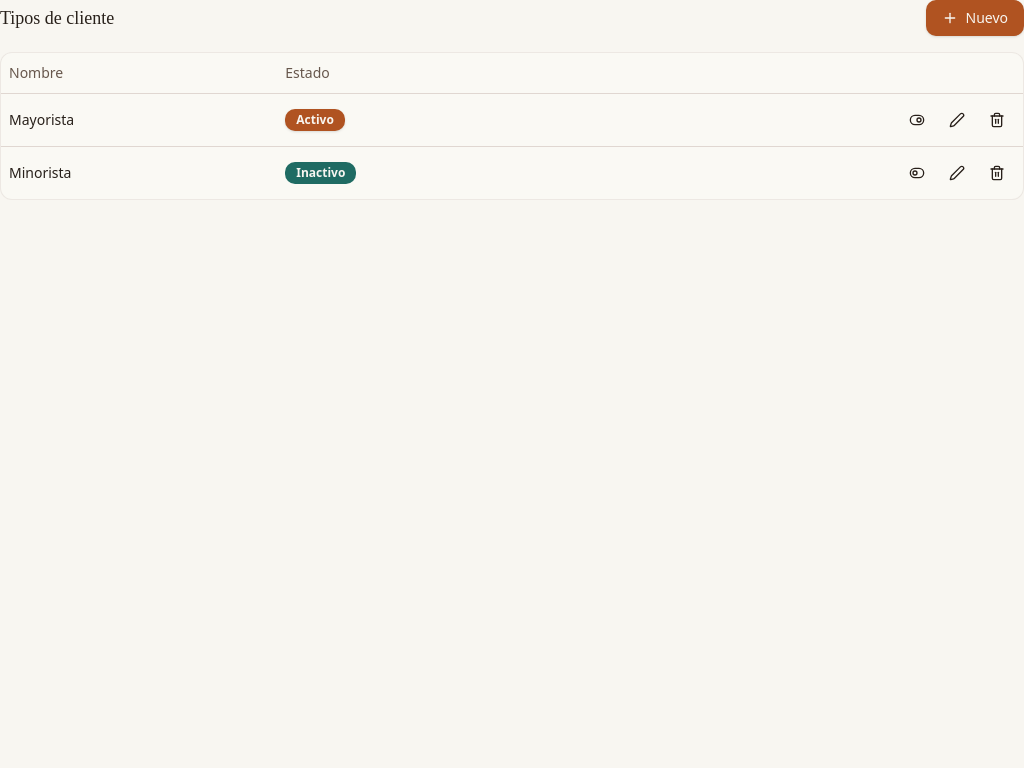
CatalogoManager › edita nombre y estado activo
Expected: the text "Mayorista" is shown, 1,93 -> 277,146
Click the button named "Editar Mayorista" at (957, 120), box 939,102 -> 975,138
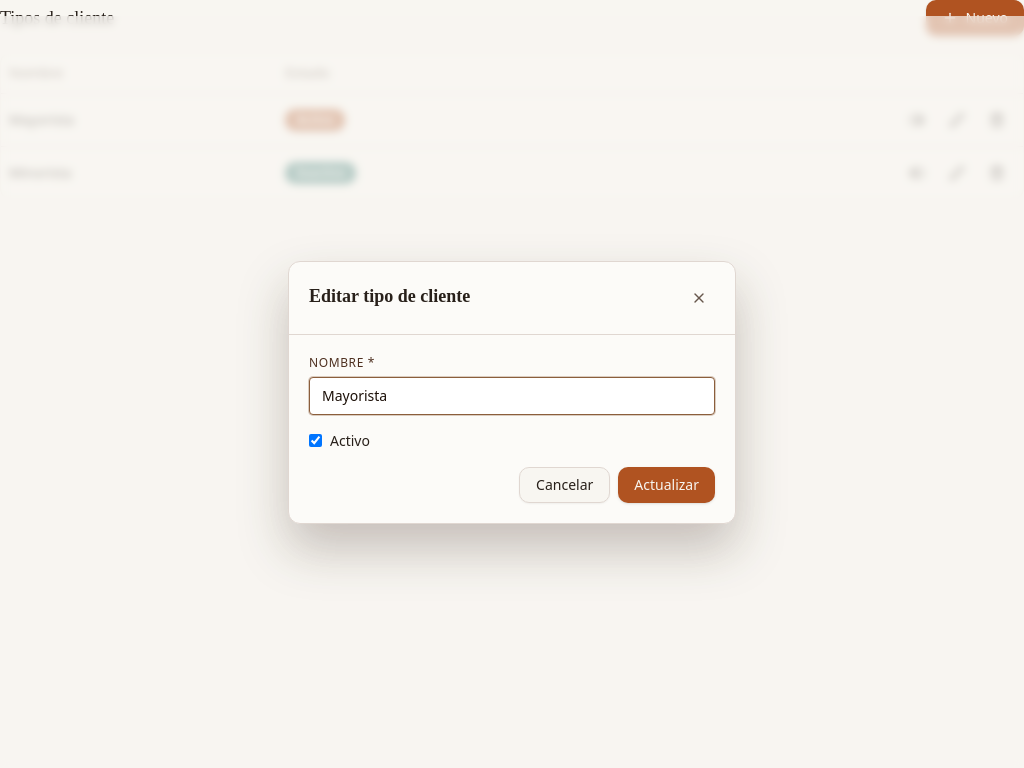
Replace the text in the field labelled "Nombre *" with "Mayorista VIP" at (512, 396), box 309,376 -> 715,414
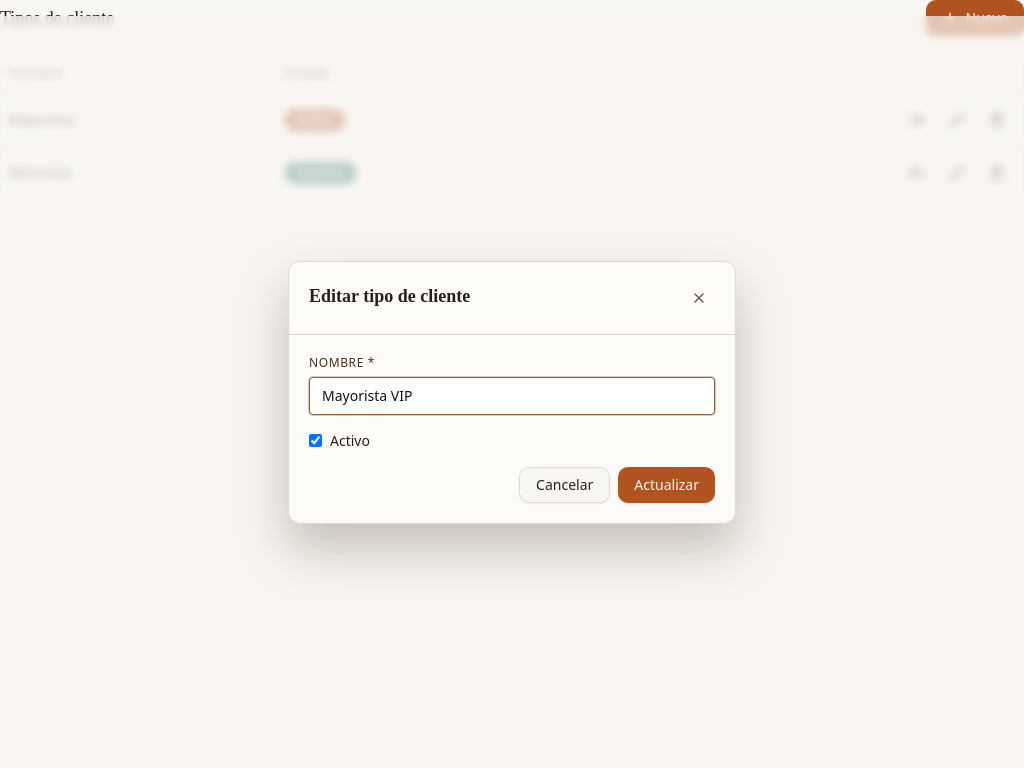
Click the checkbox labelled "Activo" at (316, 440), box 309,434 -> 322,447
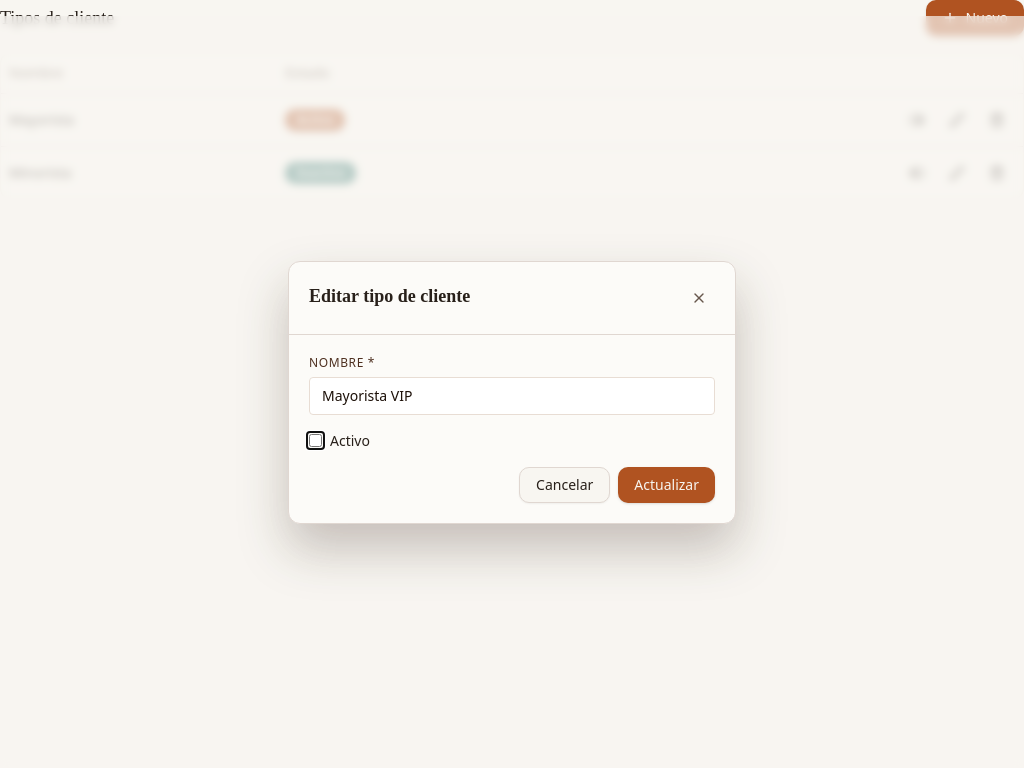
Click the button "Actualizar" at (667, 484), box 618,466 -> 715,502
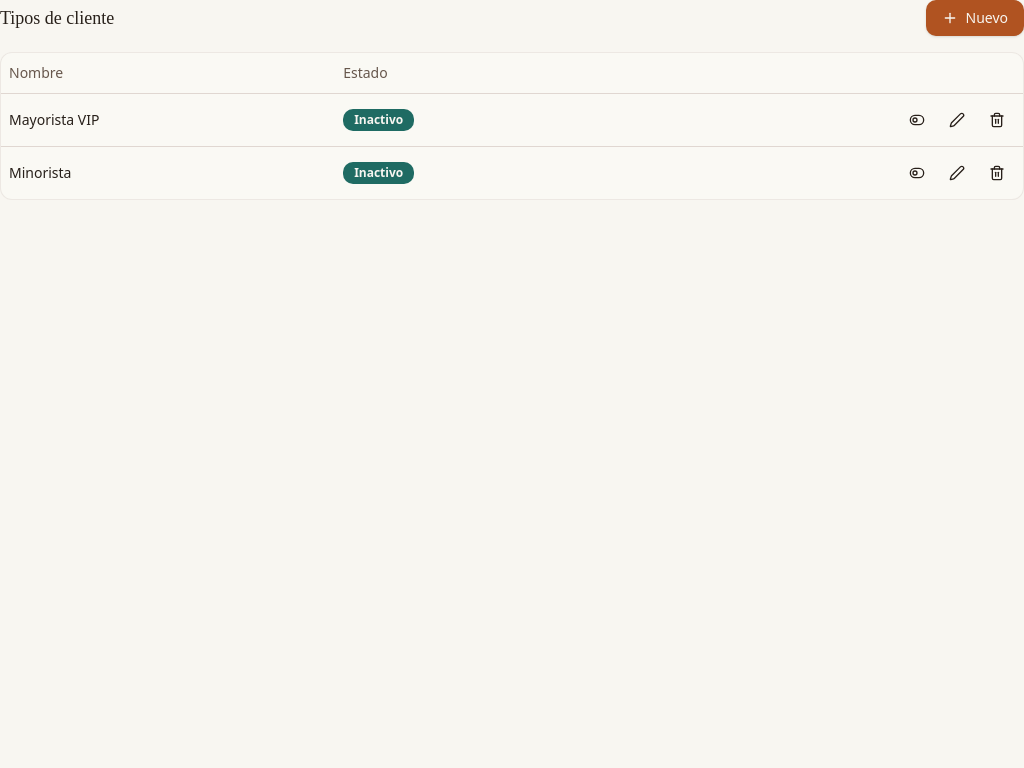
Expected: the text "Mayorista VIP" is shown, 1,93 -> 335,146
